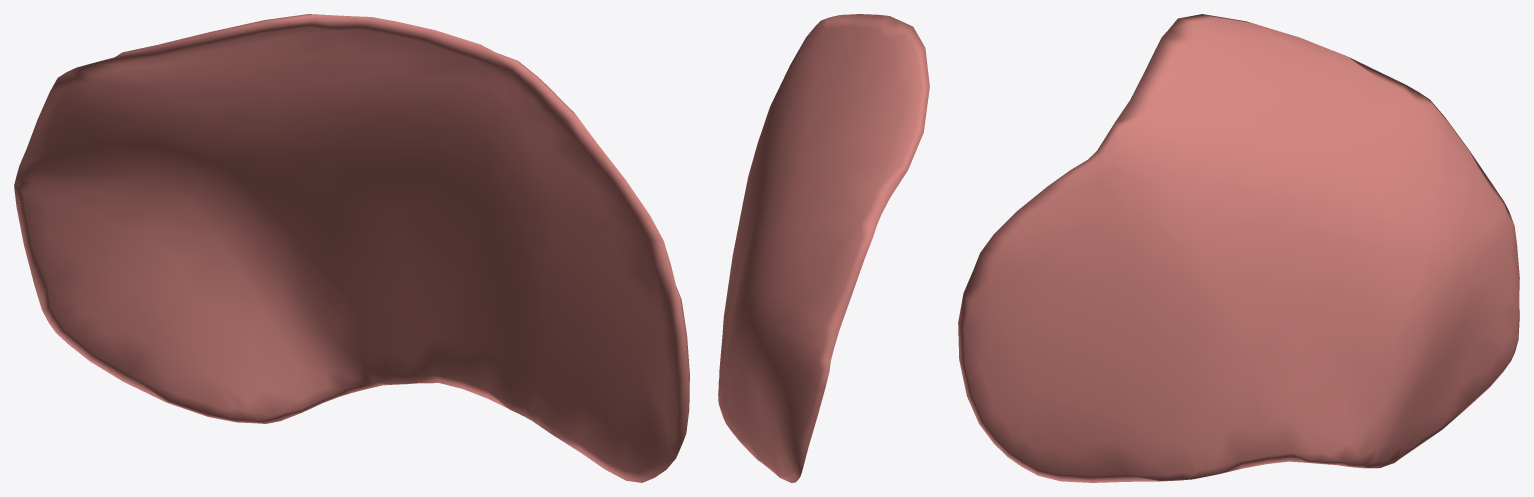
3 renders of one model, left to right at view 1: azimuth 30°, elevation 25°; view 2: azimuth 150°, elevation 25°; view 3: azimuth 270°, elevation 25°, orthographic. The views are drawn at different scales.
Parts seen in each view (by area): view 1: ZA_904b3a68accfa0ec; view 2: ZA_904b3a68accfa0ec; view 3: ZA_904b3a68accfa0ec.
Part boxes in pixels (<box>): ZA_904b3a68accfa0ec: <box>14,14,689,482</box>; ZA_904b3a68accfa0ec: <box>718,14,929,482</box>; ZA_904b3a68accfa0ec: <box>958,14,1519,482</box>.
Bounding box in the file's own units: 0.0104 × 0.0147 × 0.018.
